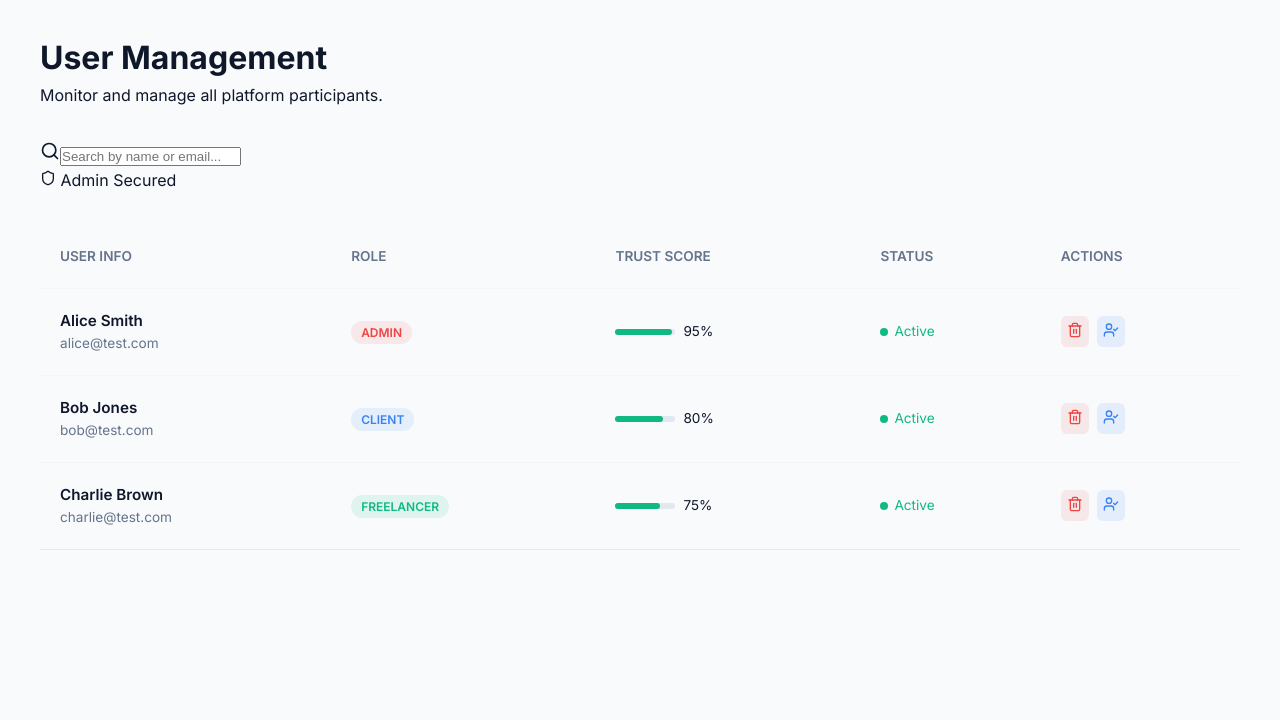
Test: UsersPage Component › deletes user on confirmation
This screenshot has width=1280, height=720.
expect the text "Alice Smith" is shown: met, box [60,311,143,330]
Click the 1st button at (1075, 332), box [1061,316,1089,347]
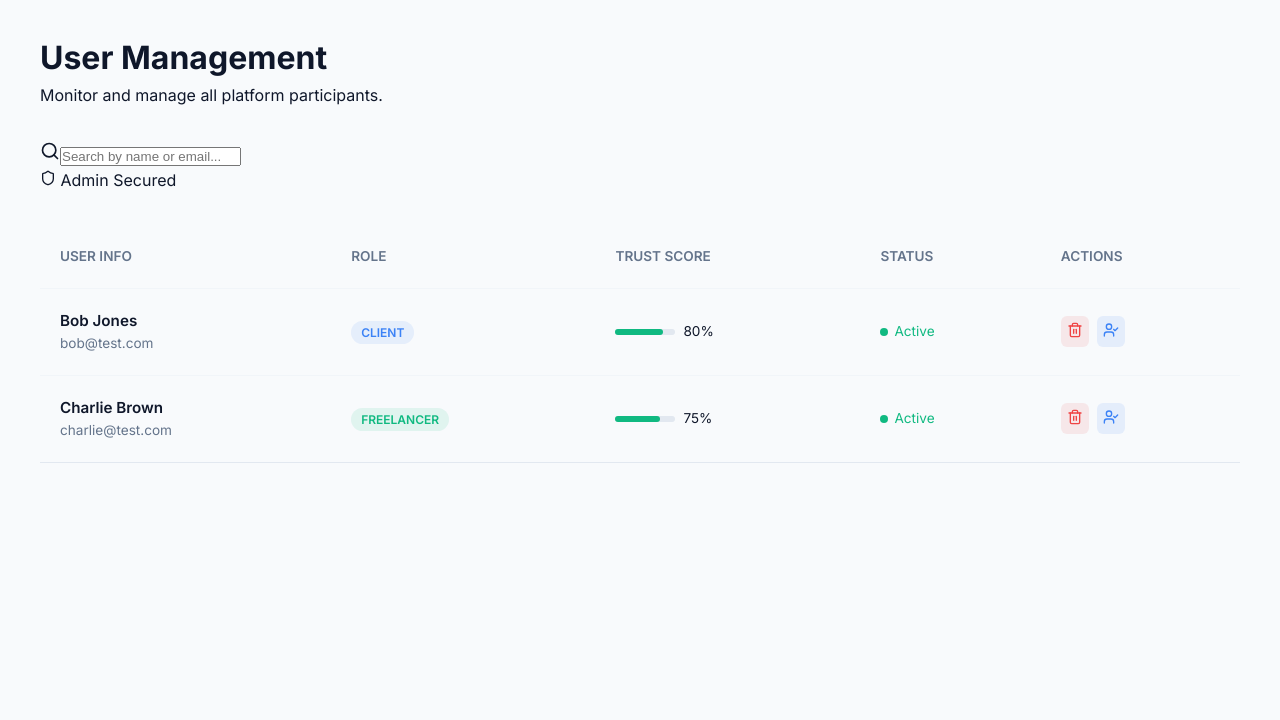
expect the text "Alice Smith" is gone: met
